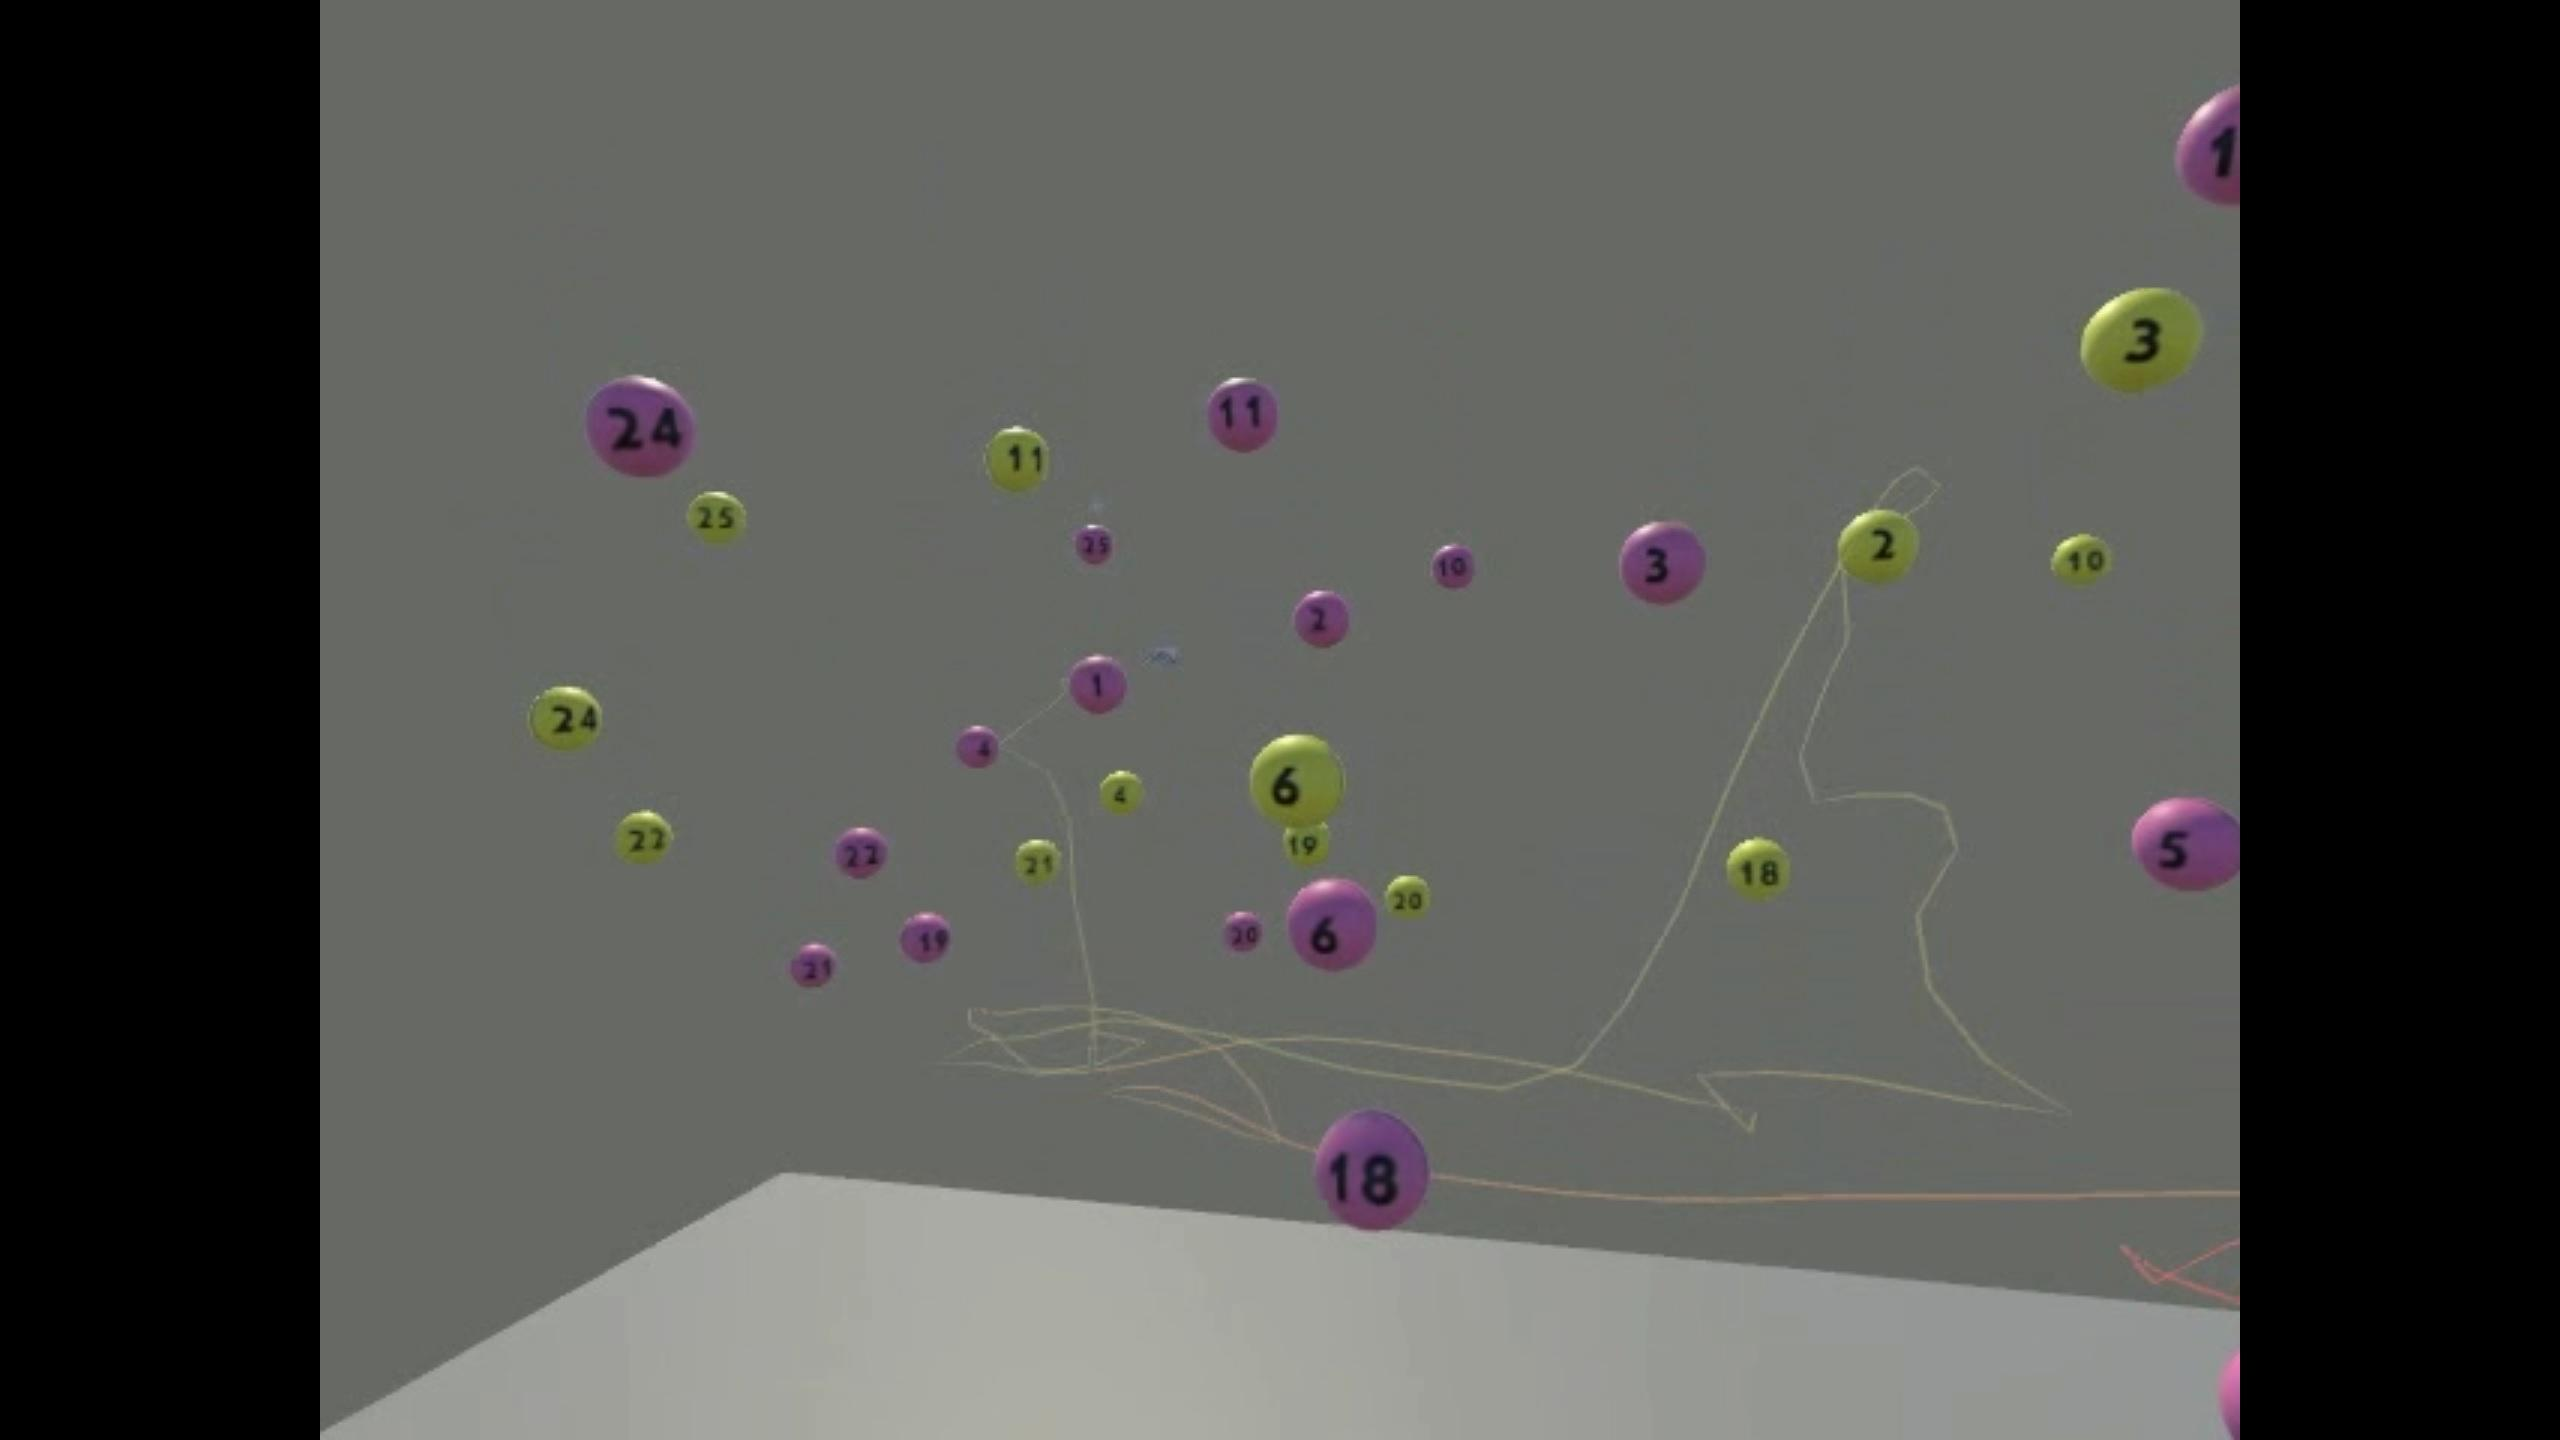ball_01_pink: (1071, 658, 1127, 714)
ball_02_pink: (1292, 591, 1350, 647)
ball_02_yellow: (1839, 510, 1922, 580)
ball_03_pink: (1618, 522, 1707, 603)
ball_03_yellow: (2082, 285, 2203, 392), (1097, 770, 1145, 819)
ball_04_pink: (956, 726, 997, 765)
ball_05_pink: (2133, 798, 2242, 890)
ball_06_pink: (1287, 879, 1377, 971)
ball_06_yellow: (1252, 735, 1342, 825)
ball_10_pink: (1429, 543, 1475, 587)
ball_10_yellow: (2050, 535, 2115, 587)
ball_11_pink: (1208, 378, 1276, 450)
ball_11_yellow: (985, 427, 1050, 491)
ball_18_pink: (1317, 1111, 1428, 1229)
ball_18_yellow: (1727, 837, 1790, 898)
ball_19_pink: (898, 911, 951, 964)
ball_19_yellow: (1282, 825, 1327, 862)
ball_20_pink: (1224, 911, 1262, 953)
ball_20_yellow: (1385, 877, 1431, 921)
ball_21_pink: (789, 944, 840, 985)
ball_21_yellow: (1013, 839, 1062, 886)
ball_22_pink: (830, 828, 886, 877)
ball_22_yellow: (612, 812, 670, 865)
ball_24_pink: (585, 376, 695, 478)
ball_24_yellow: (531, 686, 603, 749)
ball_25_pink: (1078, 526, 1111, 564)
ball_25_yellow: (687, 491, 744, 543)
ball_unknown: (2178, 84, 2244, 206), (2217, 1349, 2242, 1435)
